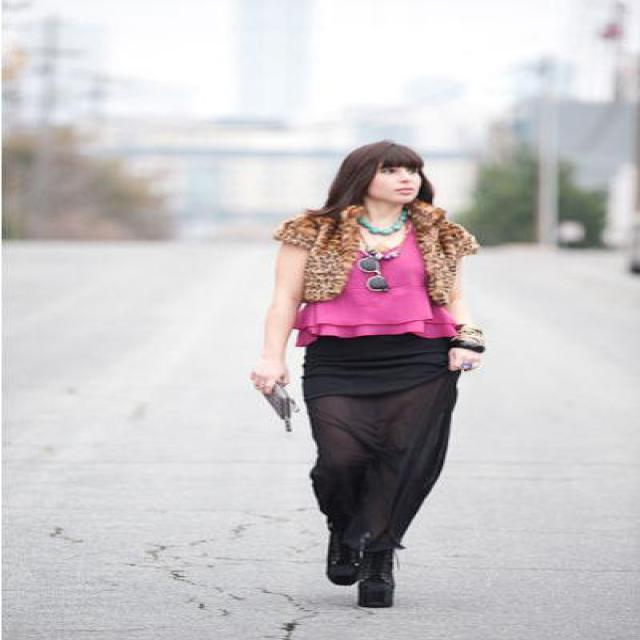jacket: (274, 196, 462, 310)
shirt: (290, 250, 470, 344)
shoe: (326, 544, 394, 607)
skirt: (296, 332, 478, 549)
